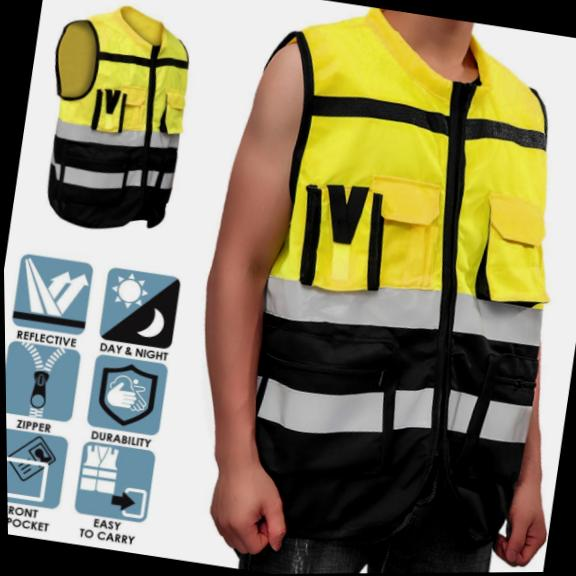safety_vest: (190, 0, 576, 564), (27, 0, 201, 241)
